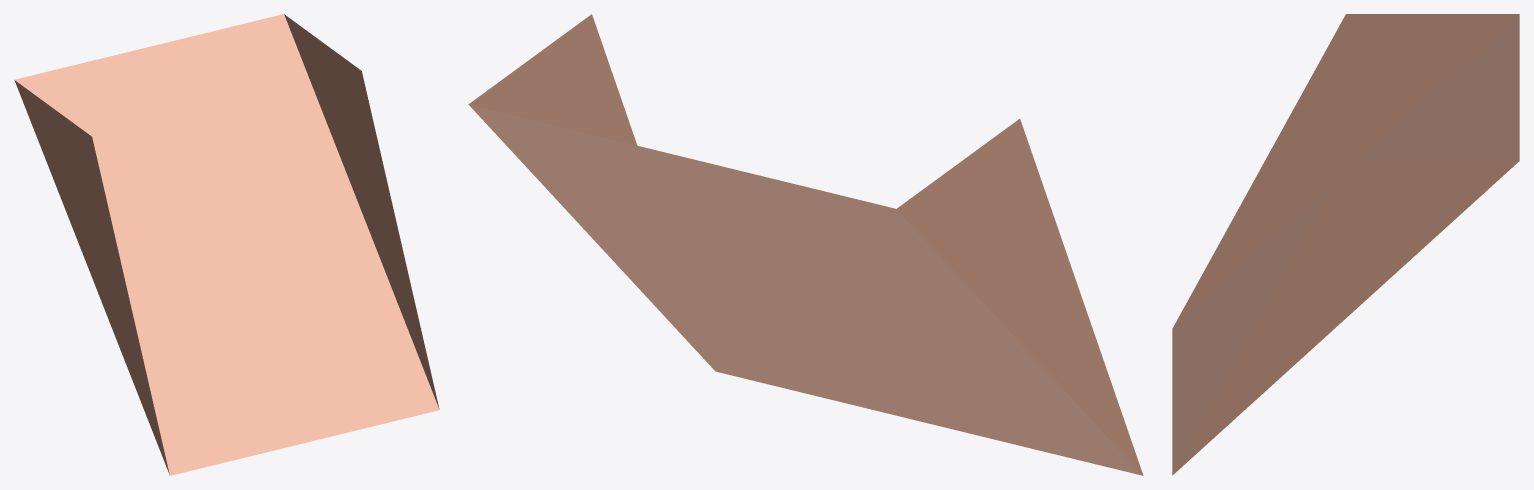
File: terrain_ramp.fbx
3 renders of one model, left to right at view 1: azimuth 30°, elevation 25°; view 2: azimuth 150°, elevation 25°; view 3: azimuth 270°, elevation 25°, orthographic. The views are drawn at different scales.
Parts seen in each view (by area): view 1: terrain_ramp; view 2: terrain_ramp; view 3: terrain_ramp.
Part boxes in pixels (<box>): terrain_ramp: <box>14,14,439,475</box>; terrain_ramp: <box>468,14,1143,475</box>; terrain_ramp: <box>1172,14,1519,475</box>.
Bounding box in the file's own units: 100 × 100 × 100.
